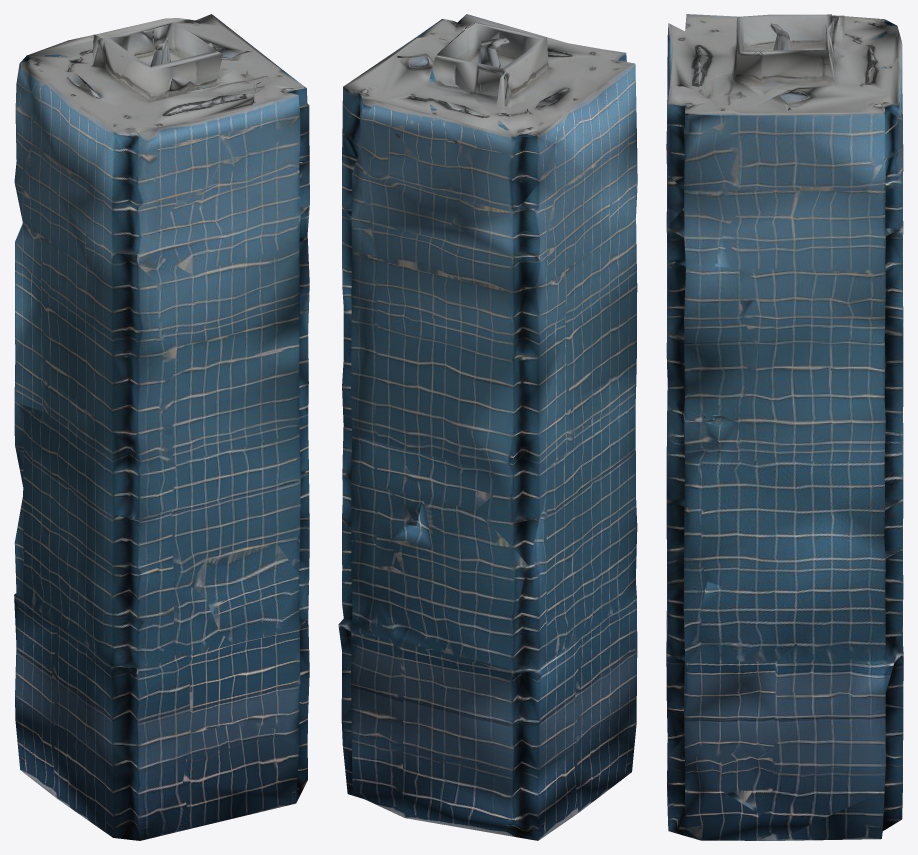
The model's file is bld2_lo.glb.
3 views of the same model, side by side, from view 1: azimuth 30°, elevation 25°; view 2: azimuth 150°, elevation 25°; view 3: azimuth 270°, elevation 25° (orthographic). The views are drawn at different scales.
Visible parts, largest first — view 1: tripo_node_02c2e473-bcfb-4709-8e19-2591712a6dc5; view 2: tripo_node_02c2e473-bcfb-4709-8e19-2591712a6dc5; view 3: tripo_node_02c2e473-bcfb-4709-8e19-2591712a6dc5.
Part boxes in pixels (x1,y1,x2,y2): tripo_node_02c2e473-bcfb-4709-8e19-2591712a6dc5: (14,14,309,840); tripo_node_02c2e473-bcfb-4709-8e19-2591712a6dc5: (338,14,637,840); tripo_node_02c2e473-bcfb-4709-8e19-2591712a6dc5: (666,14,903,840).
Bounding box in the file's own units: 0.2788 × 0.9994 × 0.2813.
Materials: 1 (1 with a texture image).
